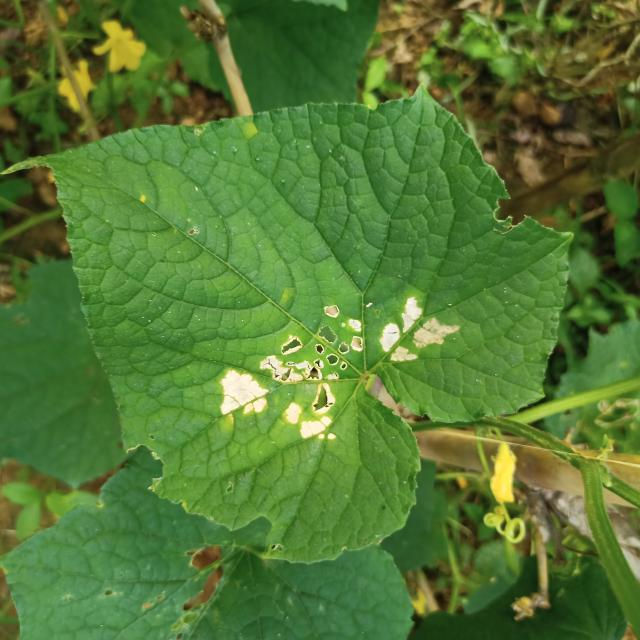disease_cucumber: (218, 294, 363, 444), (374, 294, 461, 366)
